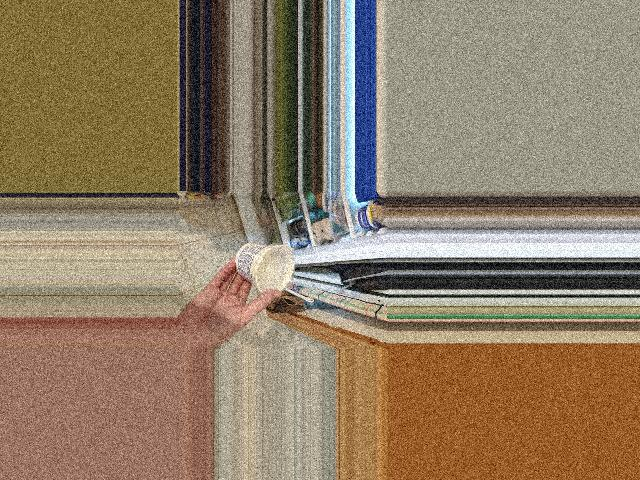cotage: (233, 247, 294, 293)
